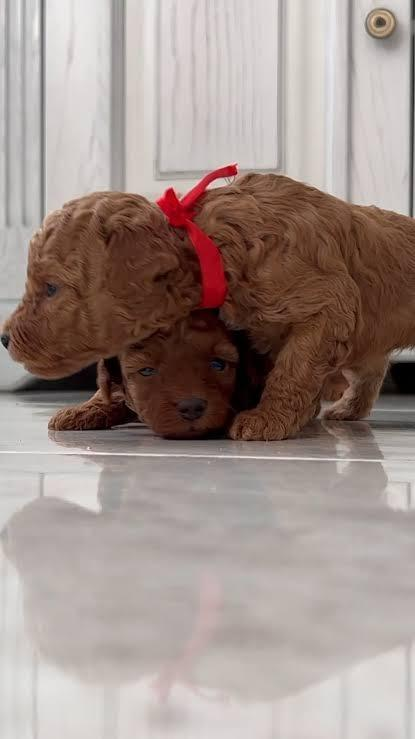puppy-dog: (1, 165, 415, 443), (47, 310, 257, 441)
